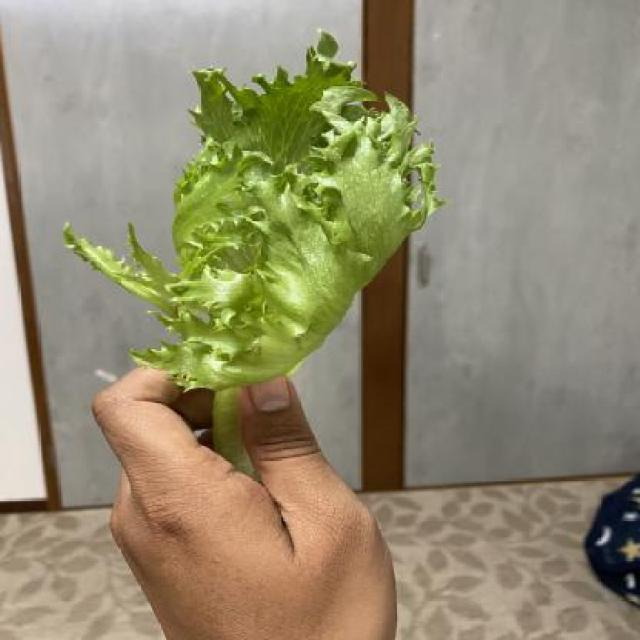Lettuce head: (59, 24, 444, 484)
